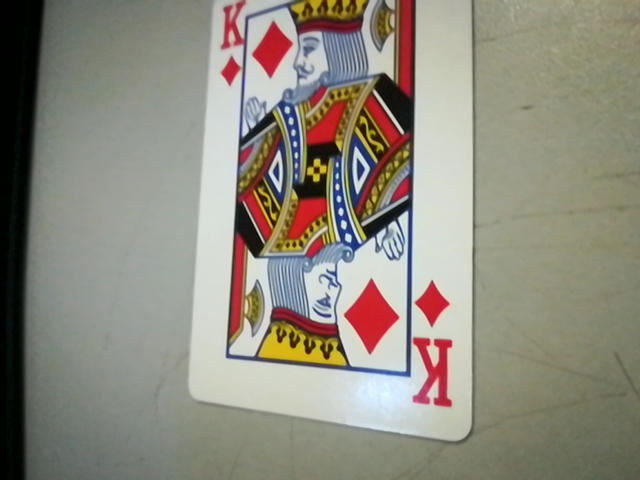fk k: (403, 277, 465, 419)
